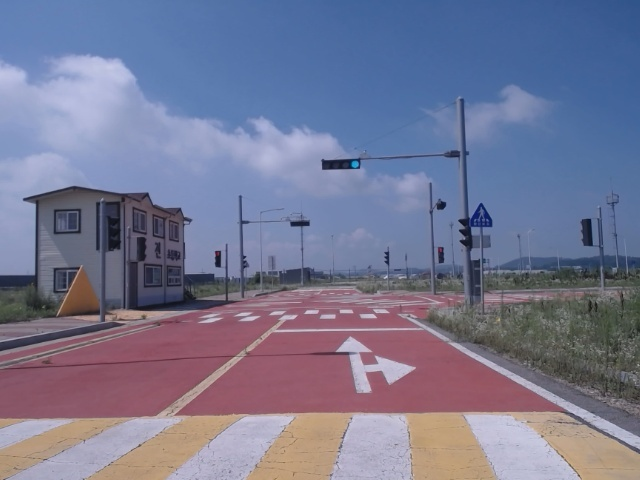straight_green_4: (321, 161, 360, 170)
